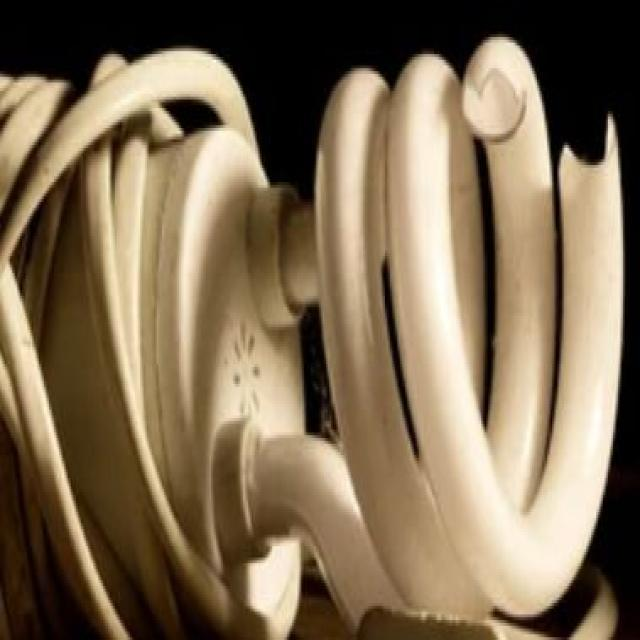electronic: (0, 31, 626, 637), (0, 42, 317, 637)
